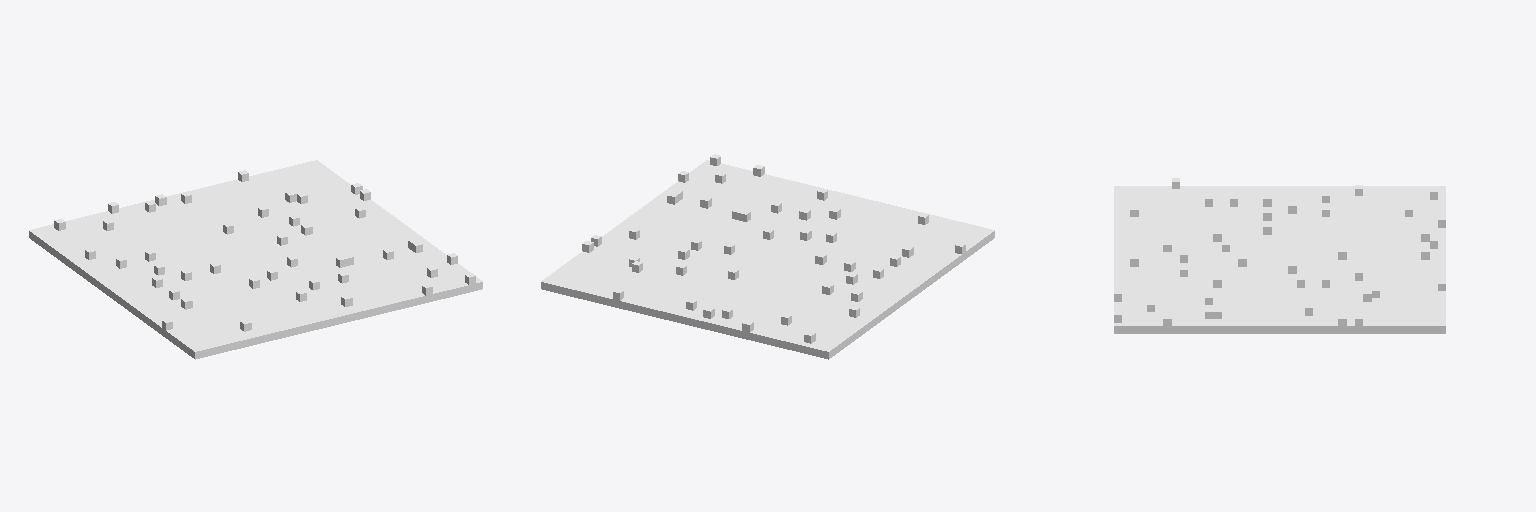
The model's file is dirt_floor_0-25.obj.
The picture shows the model from 3 angles: view 1: azimuth 30°, elevation 25°; view 2: azimuth 150°, elevation 25°; view 3: azimuth 270°, elevation 25°; orthographic projection.
Parts seen in each view (by area): view 1: object 1; view 2: object 1; view 3: object 1.
Part boxes in pixels (x1,y1,x2,y2): object 1: (29,160,482,359); object 1: (541,154,994,359); object 1: (1114,178,1445,333).
Bounding box in the file's own units: 4 × 0.2 × 4.